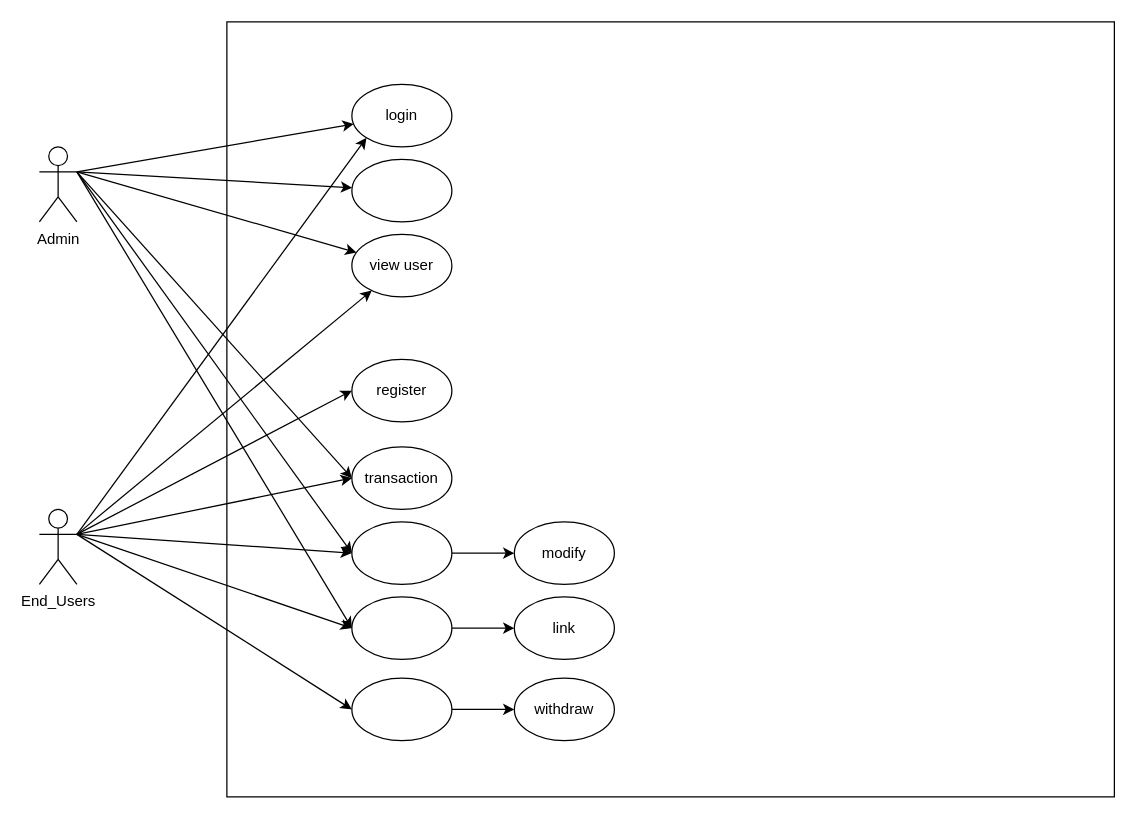
Some shapes in this 1136 by 819 pixel diagram are drawn without their labels. Each missing label, with the centre of its shape:
"add cash" belongs at (x=401, y=709).
"investments" belongs at (x=401, y=552).
"logout" belongs at (x=401, y=190).
"view income" belongs at (x=401, y=627).
